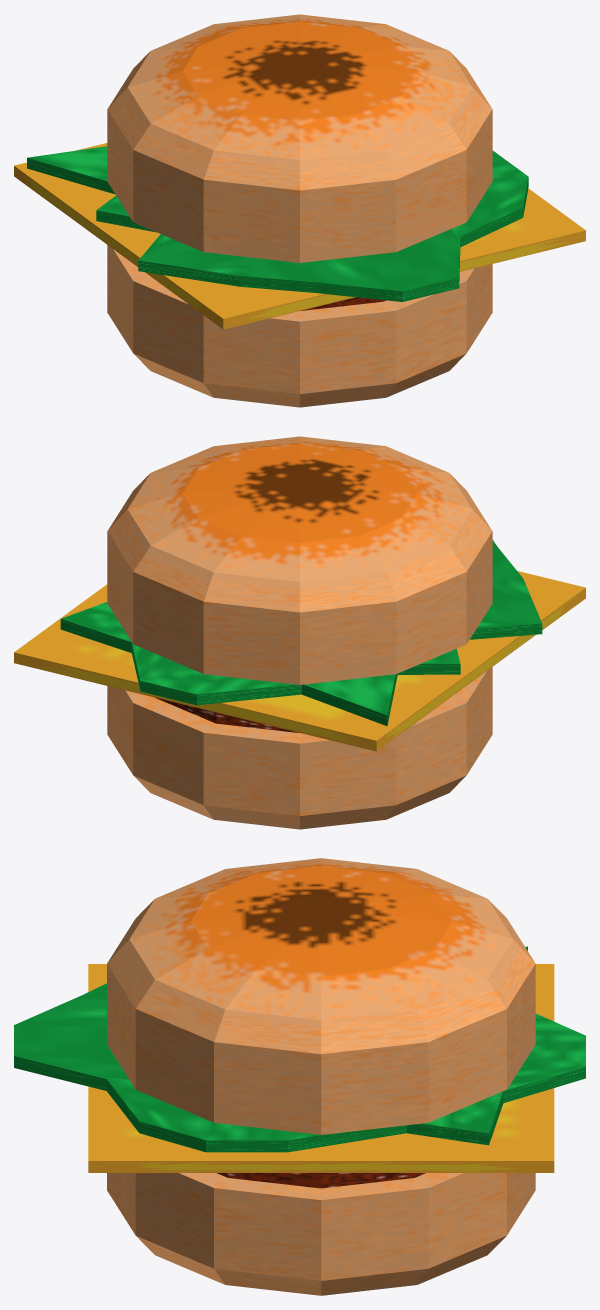
The model's file is burger.glb.
3 renders of one model, top to bottom at view 1: azimuth 30°, elevation 25°; view 2: azimuth 150°, elevation 25°; view 3: azimuth 270°, elevation 25°, orthographic. The views are drawn at different scales.
Visible parts, largest first — view 1: Cylinder; view 2: Cylinder; view 3: Cylinder.
Part boxes in pixels (x1,y1,x2,y2): Cylinder: (14,14,585,407); Cylinder: (14,436,585,829); Cylinder: (14,858,585,1295).
Size of the model in its own units: 0.1724 by 0.1252 by 0.2001.
1 material, 1 textured.
